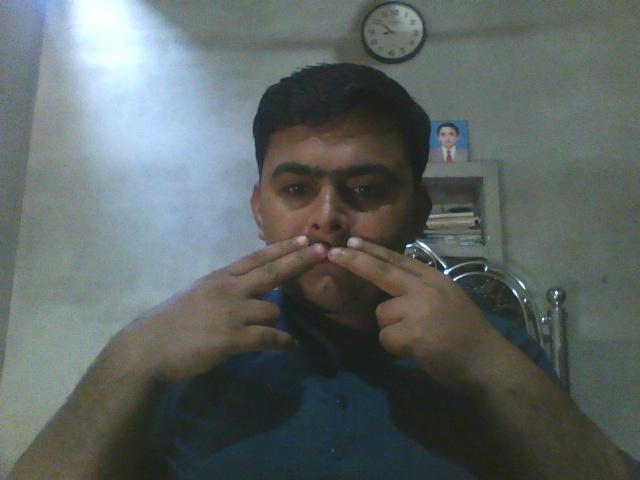Thanks: (226, 223, 434, 306)
